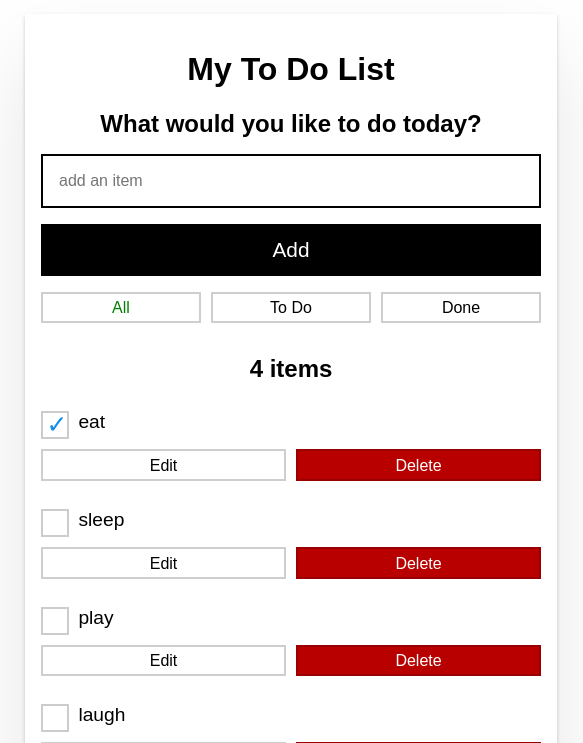
Scenario: Editing a Todo › should edit a todo
The width and height of the screenshot is (583, 743).
Click the button "Edit" below "eat". click: {"x": 164, "y": 465}
box: [41,449,286,481]
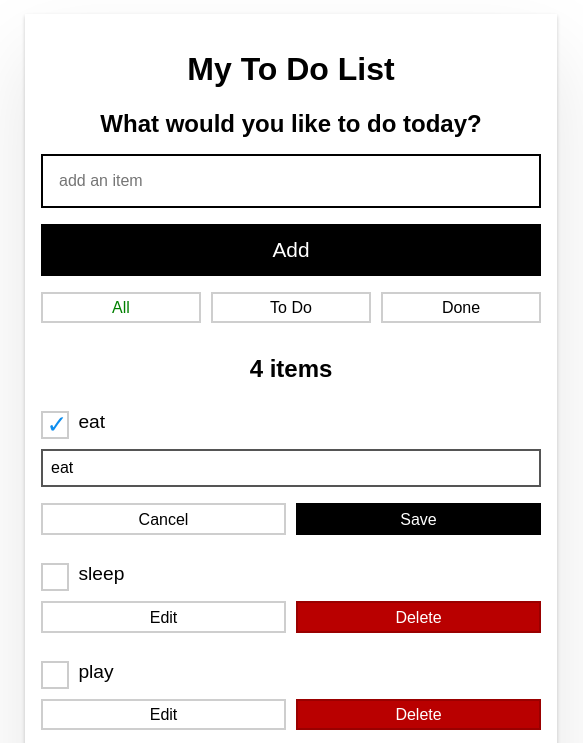
Check: the field with placeholder "edit item" is shown
Replace the text in the field with placeholder "edit item" with "Buy fresh groceries". click: {"x": 291, "y": 468}
box: [41,449,541,487]
Then press Enter
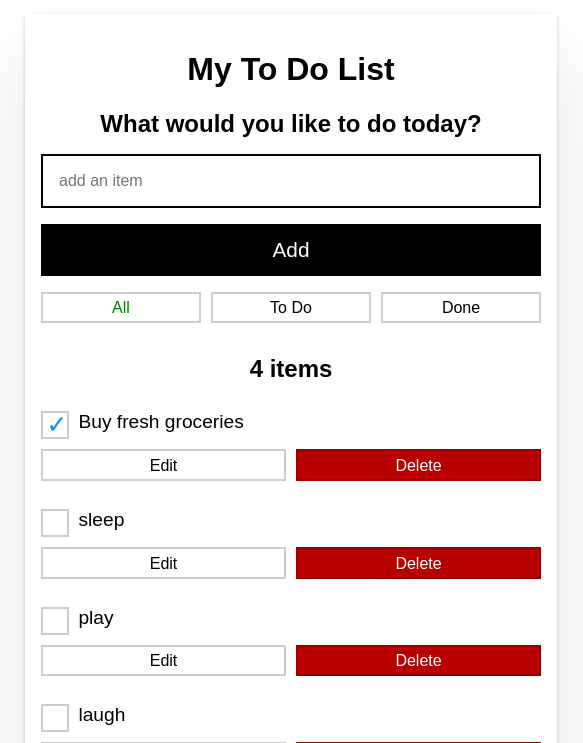
Check: the text "Buy fresh groceries" is shown, box [78,411,244,432]
